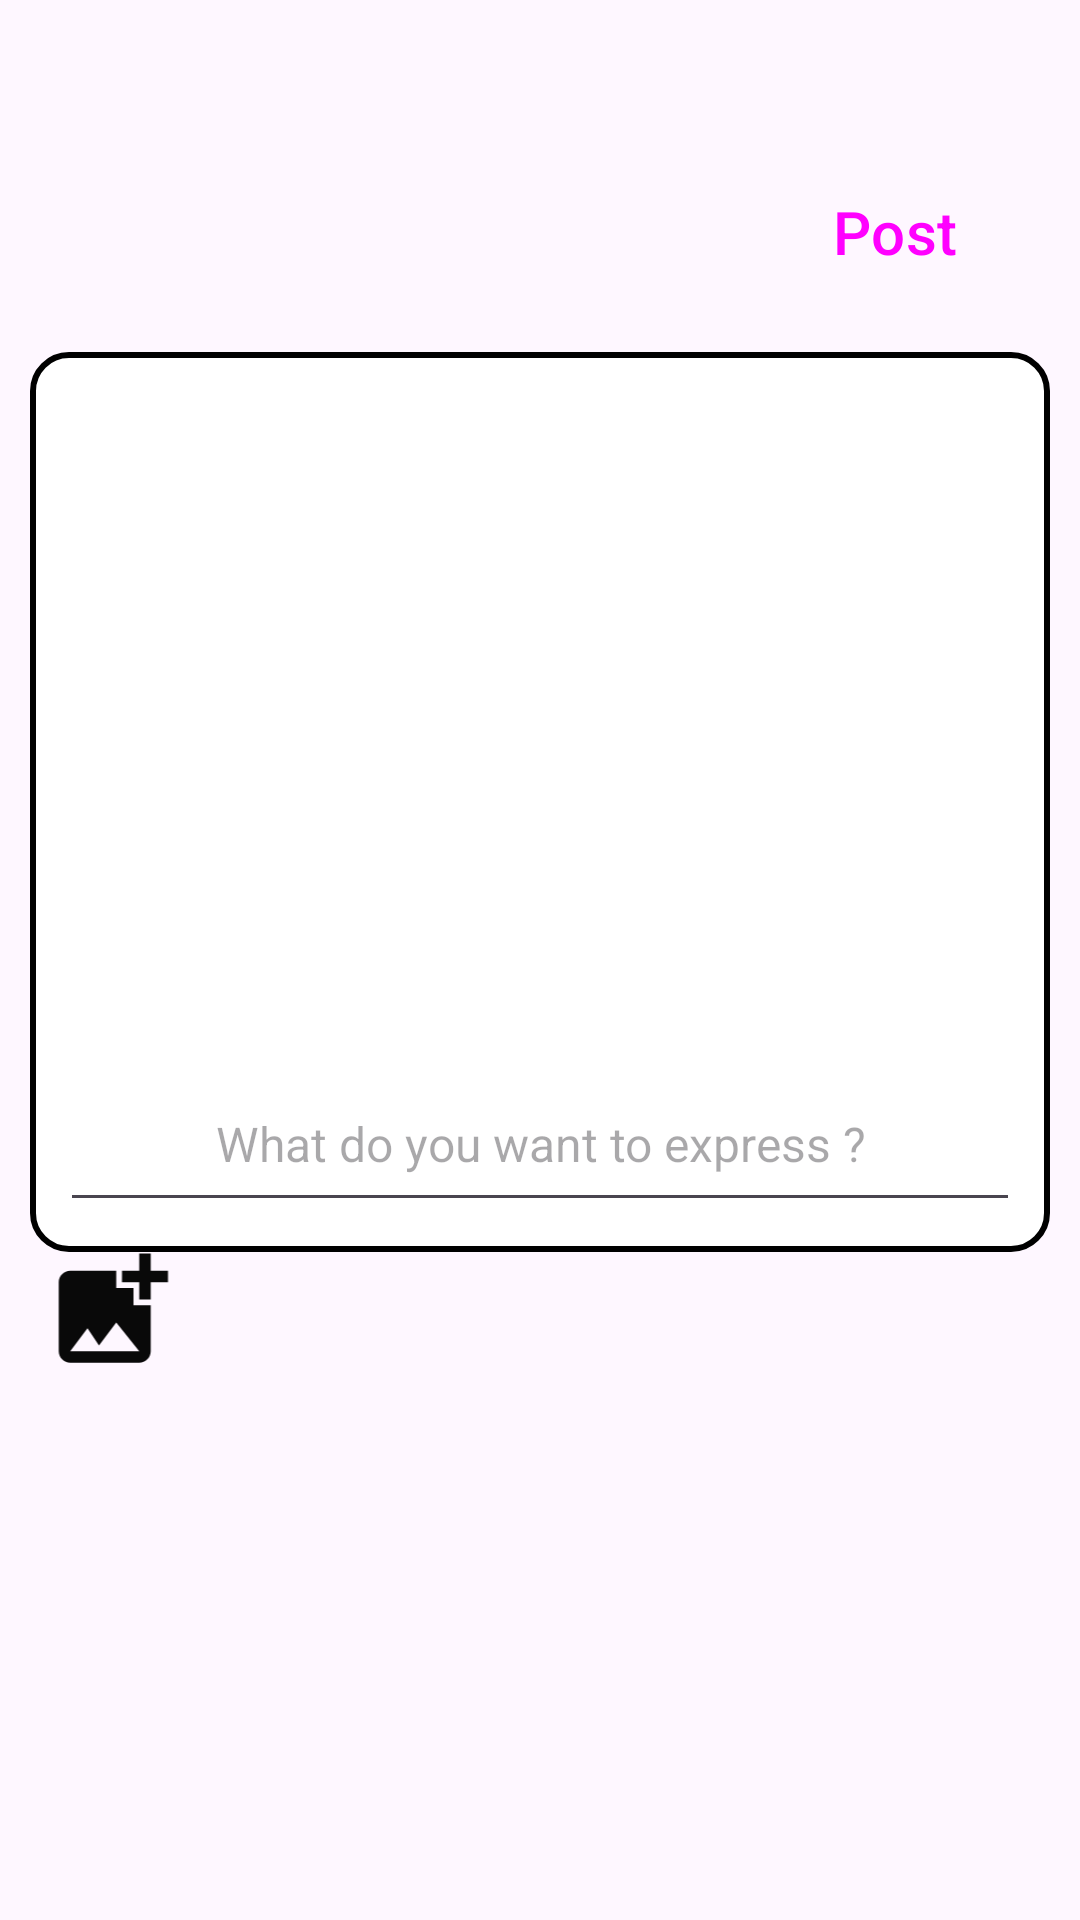

Screen size 1080px x 1920px. Icon name, then its center in pixels as (x=x, y=y):
add photo alternate: (x=113, y=1308)
